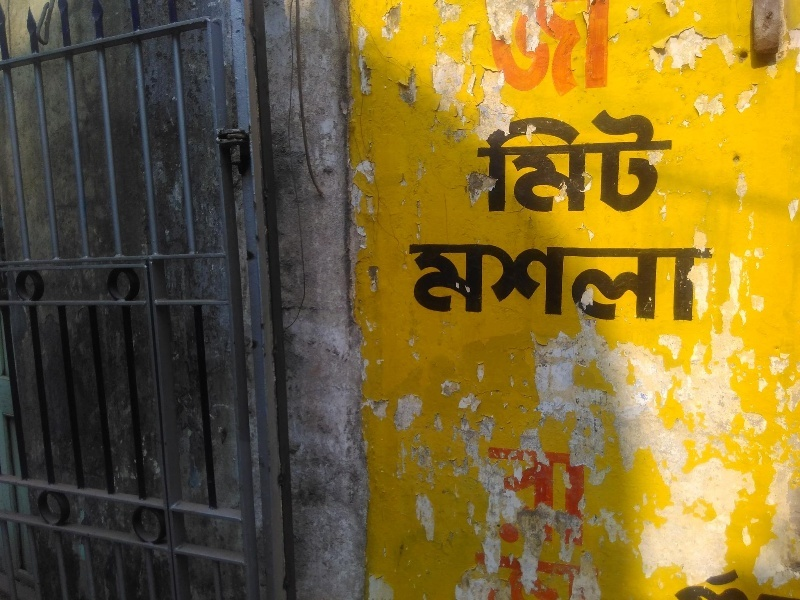text: (481, 443, 496, 597), (497, 443, 512, 597), (513, 443, 528, 597), (529, 443, 544, 597), (545, 443, 560, 597), (561, 443, 576, 597), (577, 443, 592, 597), (481, 105, 496, 219), (497, 105, 512, 219), (513, 105, 528, 219), (529, 105, 544, 219), (545, 105, 560, 219), (561, 105, 576, 219), (577, 105, 592, 219), (593, 105, 608, 219), (609, 105, 624, 219), (625, 105, 640, 219), (641, 105, 656, 219), (657, 105, 672, 219), (497, 1, 512, 98), (513, 1, 528, 98), (529, 1, 544, 98), (545, 1, 560, 98), (561, 1, 576, 98), (577, 1, 592, 98), (593, 1, 608, 98), (705, 241, 721, 323), (417, 241, 432, 323), (433, 241, 448, 323), (449, 241, 464, 323), (465, 241, 480, 323), (481, 241, 496, 323), (497, 241, 512, 323), (513, 241, 528, 323), (529, 241, 544, 323), (545, 241, 560, 323), (561, 241, 576, 323), (577, 241, 592, 323), (593, 241, 608, 323), (609, 241, 624, 323), (625, 241, 640, 323), (641, 241, 656, 323), (657, 241, 672, 323), (673, 241, 688, 323), (689, 241, 704, 323), (408, 241, 416, 323), (657, 567, 672, 600), (673, 567, 688, 600), (689, 567, 704, 600), (705, 567, 720, 600), (721, 567, 736, 600), (737, 567, 752, 600), (753, 567, 768, 600), (769, 567, 784, 600), (785, 567, 799, 600), (609, 1, 613, 98), (645, 567, 656, 600), (477, 105, 480, 219), (593, 443, 595, 597), (673, 105, 675, 219)
